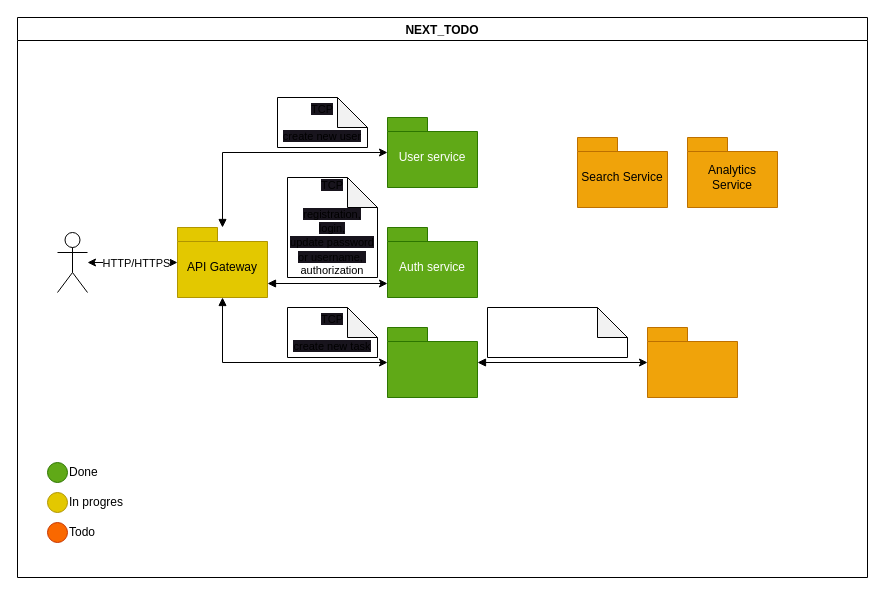
The diagram is 885 pixels wide and 595 high, and some of its shapes have lost their labels. The shapes that lost their labels are listed below. From the top down, each one's centre as x and y in pixels, then its label:
(72,262): Api consumer (fron-end)
(557,332): TCP notify user about new task
(432,362): Task service
(692,362): Notification Service
